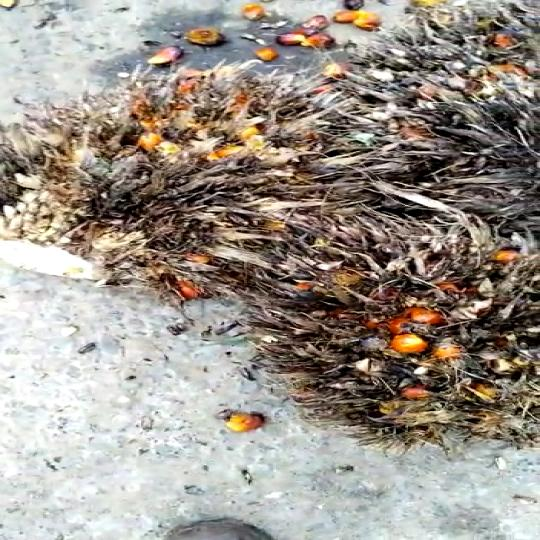terlalu masak: (208, 199, 540, 449), (19, 77, 374, 285)
